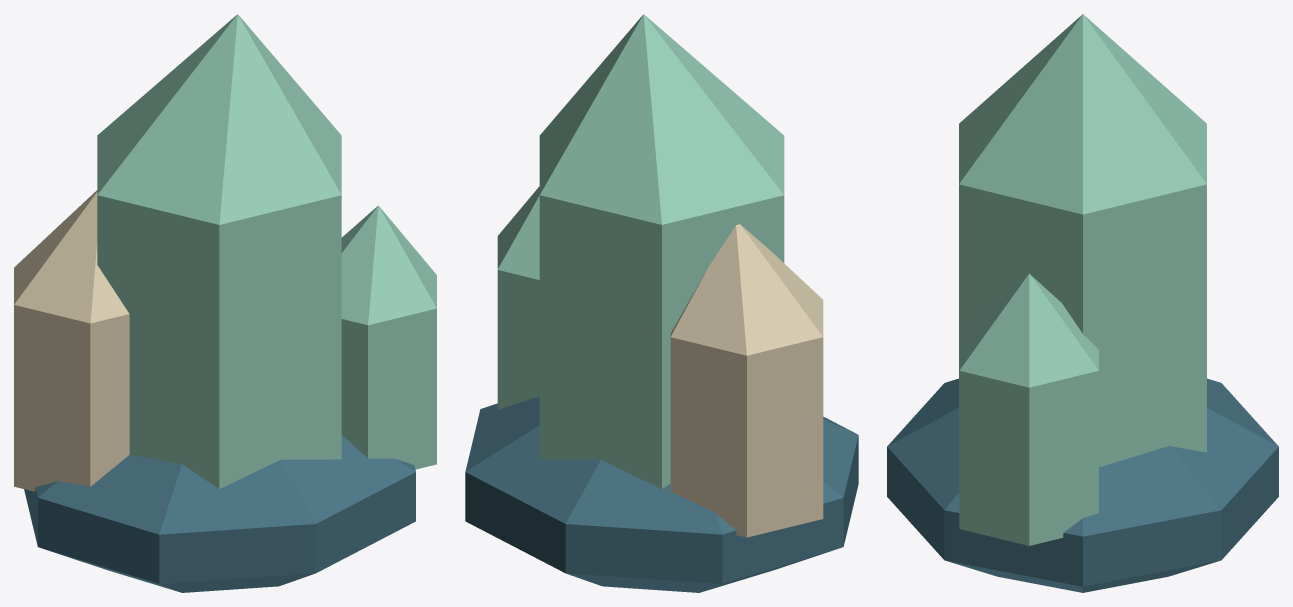
Rendered from marine-loot-7.glb.
3 views of the same model, side by side, from view 1: azimuth 30°, elevation 25°; view 2: azimuth 150°, elevation 25°; view 3: azimuth 270°, elevation 25° (orthographic).
Parts seen in each view (by area): view 1: marine-loot-7; view 2: marine-loot-7; view 3: marine-loot-7.
Part boxes in pixels (x1=…): marine-loot-7: x1=14, y1=14, x2=436, y2=592; marine-loot-7: x1=465, y1=14, x2=858, y2=592; marine-loot-7: x1=887, y1=14, x2=1278, y2=592.
Size of the model in its own units: 0.98 by 1.35 by 0.875.
